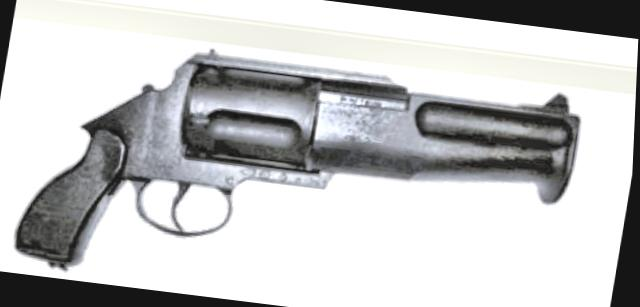pistol: (2, 26, 589, 307)
